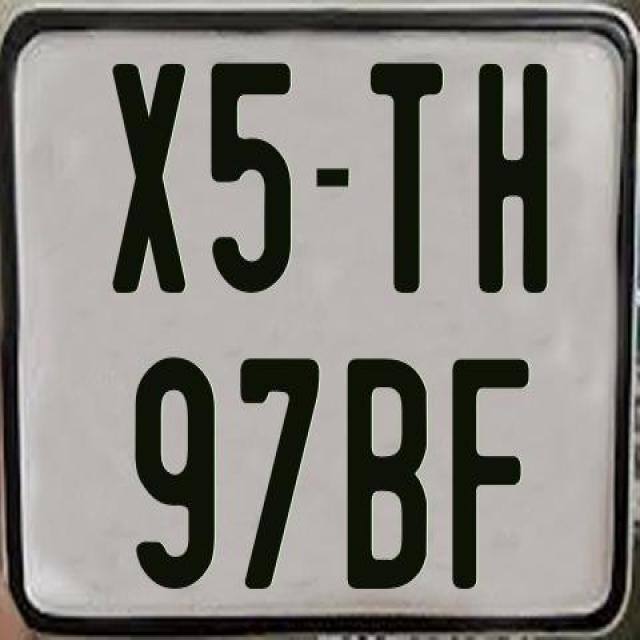5: (210, 59, 298, 299)
7: (238, 357, 320, 590)
9: (134, 356, 222, 590)
B: (346, 355, 430, 587)
F: (448, 357, 532, 597)
H: (476, 63, 548, 294)
T: (370, 59, 442, 299)
X: (109, 59, 183, 288)
